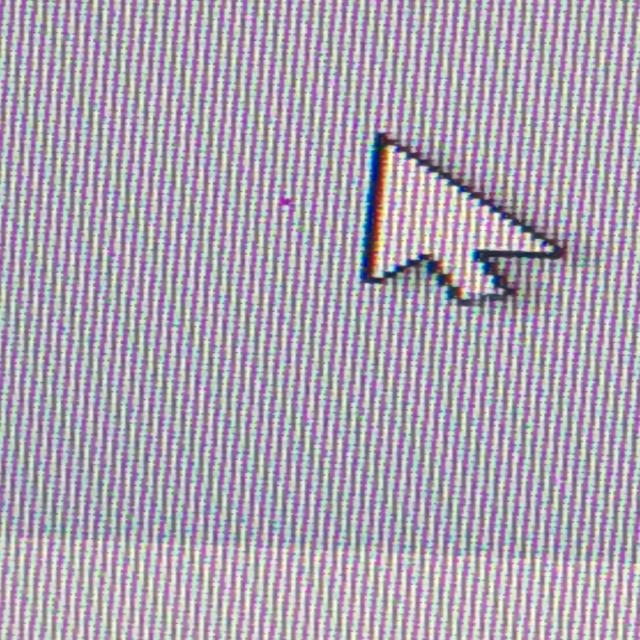Dead pixel: (279, 198, 294, 205)
